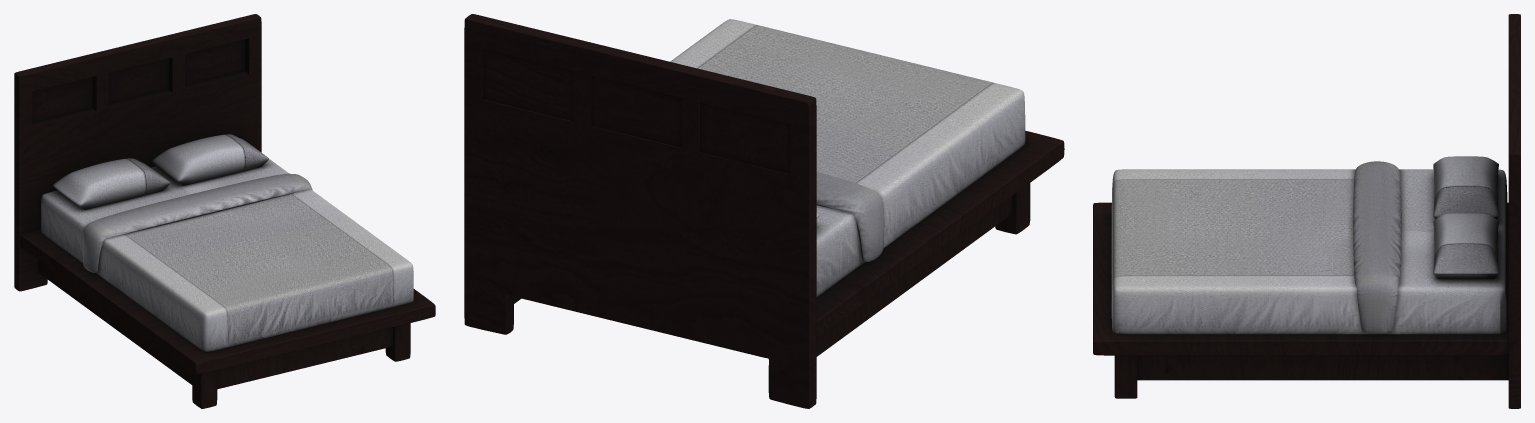
Rendered from KingSizeBed.obj.
The picture shows the model from 3 angles, left to right: view 1: azimuth 30°, elevation 25°; view 2: azimuth 150°, elevation 25°; view 3: azimuth 270°, elevation 25°; orthographic projection. The views are drawn at different scales.
Parts seen in each view (by area): view 1: 10236_Master_Bed_King_Size_v1.001; view 2: 10236_Master_Bed_King_Size_v1.001; view 3: 10236_Master_Bed_King_Size_v1.001.
Boxes of the visible parts, x1=… form: 10236_Master_Bed_King_Size_v1.001: x1=14, y1=14, x2=435, y2=408; 10236_Master_Bed_King_Size_v1.001: x1=464, y1=14, x2=1064, y2=408; 10236_Master_Bed_King_Size_v1.001: x1=1093, y1=14, x2=1520, y2=408.
Bounding box in the file's own units: 1.4 × 1.19 × 1.81.
